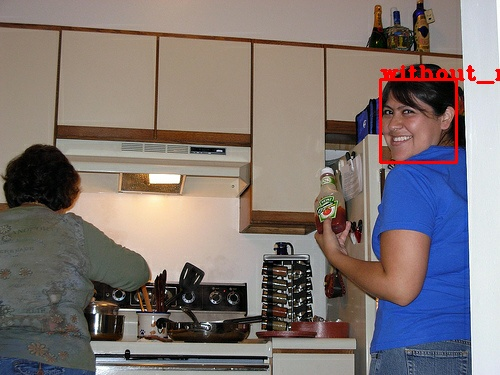without_mask: (380, 87, 455, 161)
